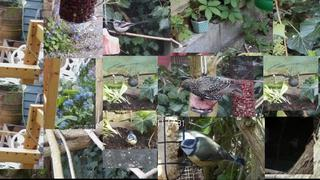blue tit: (178, 137, 245, 166), (125, 130, 137, 149)
long tailed tit: (112, 20, 151, 35)
sparrow: (125, 76, 138, 88), (285, 76, 298, 88)
starling: (178, 76, 243, 101)
